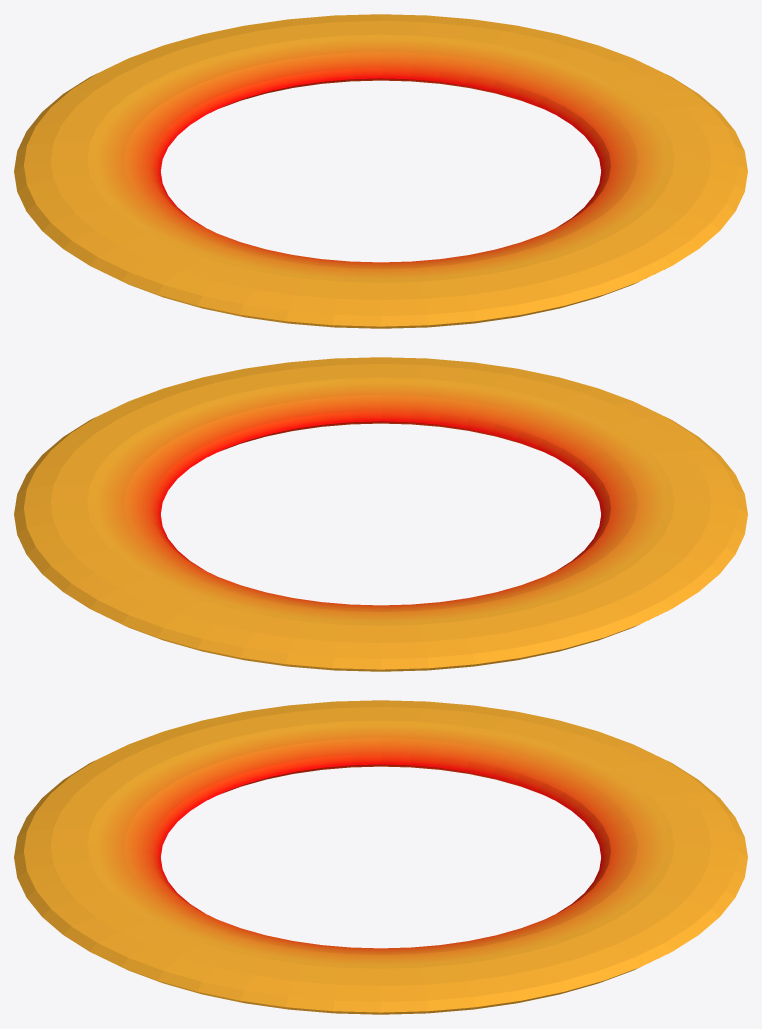
The model's file is Explosion.obj.
3 views of the same model, one above another, from view 1: azimuth 30°, elevation 25°; view 2: azimuth 150°, elevation 25°; view 3: azimuth 270°, elevation 25° (orthographic).
Parts seen in each view (by area): view 1: Explosion; view 2: Explosion; view 3: Explosion.
Boxes of the visible parts, left/top/right/bottom form: Explosion: left=14, top=14, right=747, bottom=328; Explosion: left=14, top=357, right=747, bottom=671; Explosion: left=14, top=700, right=747, bottom=1014.
Bounding box in the file's own units: 2.38 × 0.0907 × 2.38.
1 material, 1 textured.
